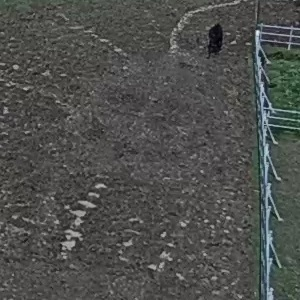cow: (201, 18, 232, 64)
